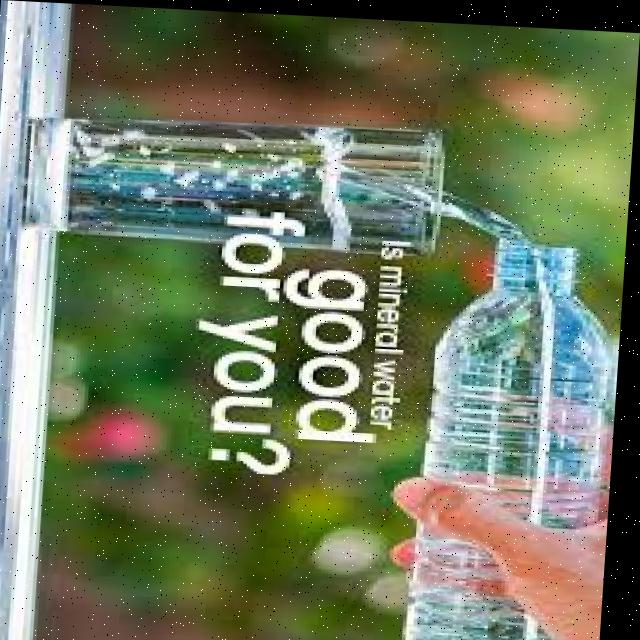bottle: (384, 209, 623, 640)
